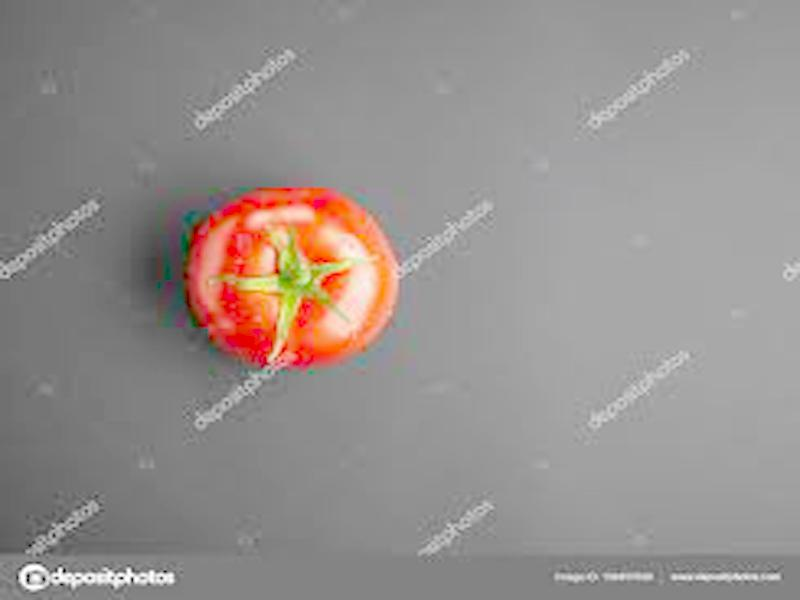Tomato: (189, 184, 402, 369)
